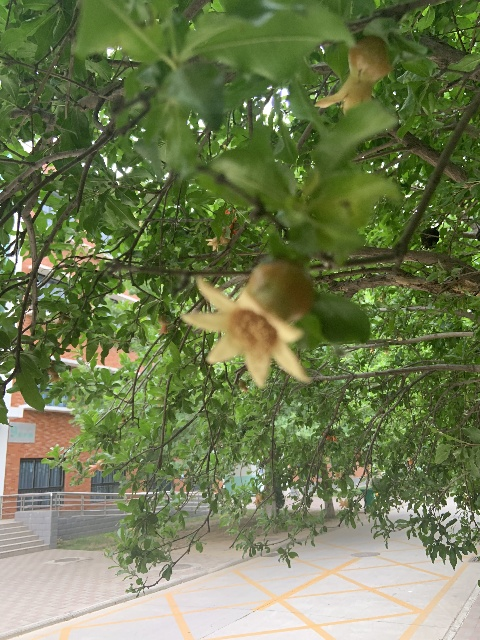early-fruit: (181, 260, 316, 388), (314, 36, 393, 114), (205, 228, 232, 251)
mid-growth: (156, 315, 170, 335), (236, 379, 249, 394)
